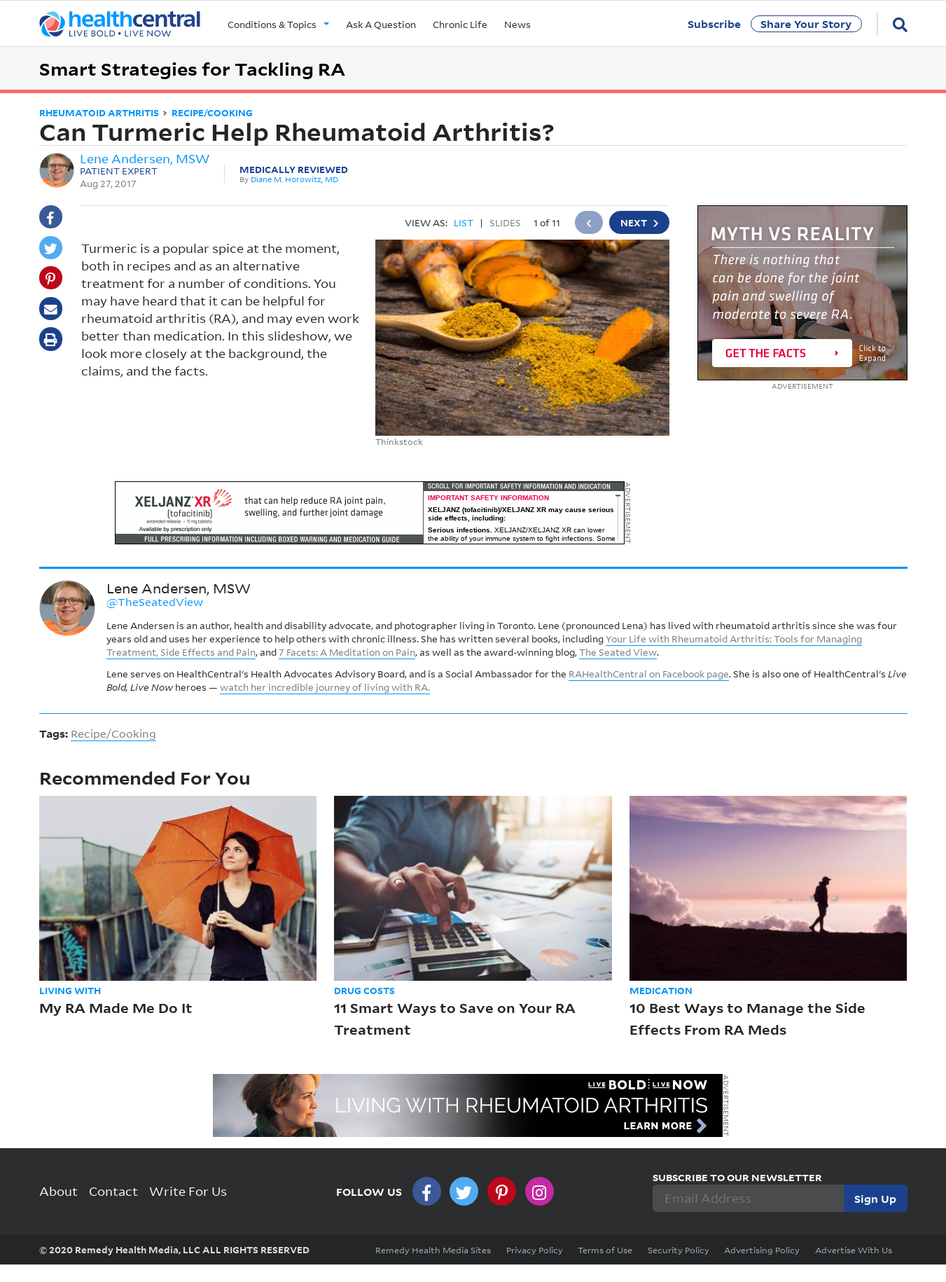fake_button: (703, 325, 866, 391)
